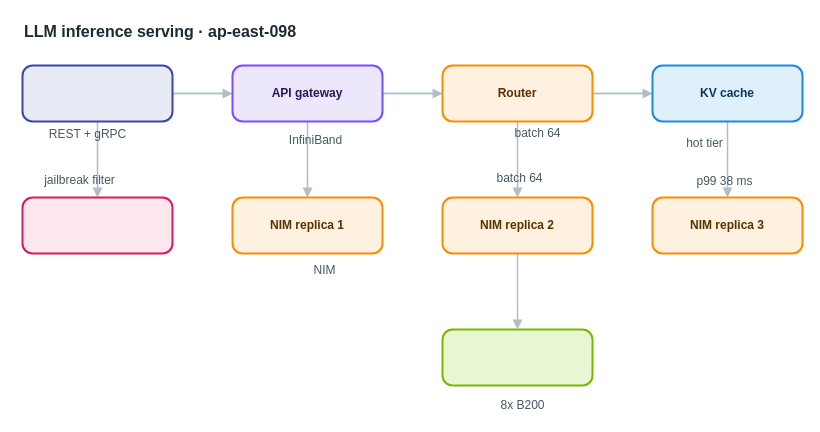
Some shapes in this 820 by 432 pixel diagram are drawn without their labels. Here are the shapes that lost their labels. From the top down, the box of each, then its label:
(21, 64, 173, 122): Clients
(21, 196, 173, 254): Guardrails
(441, 328, 593, 386): GPU pool
